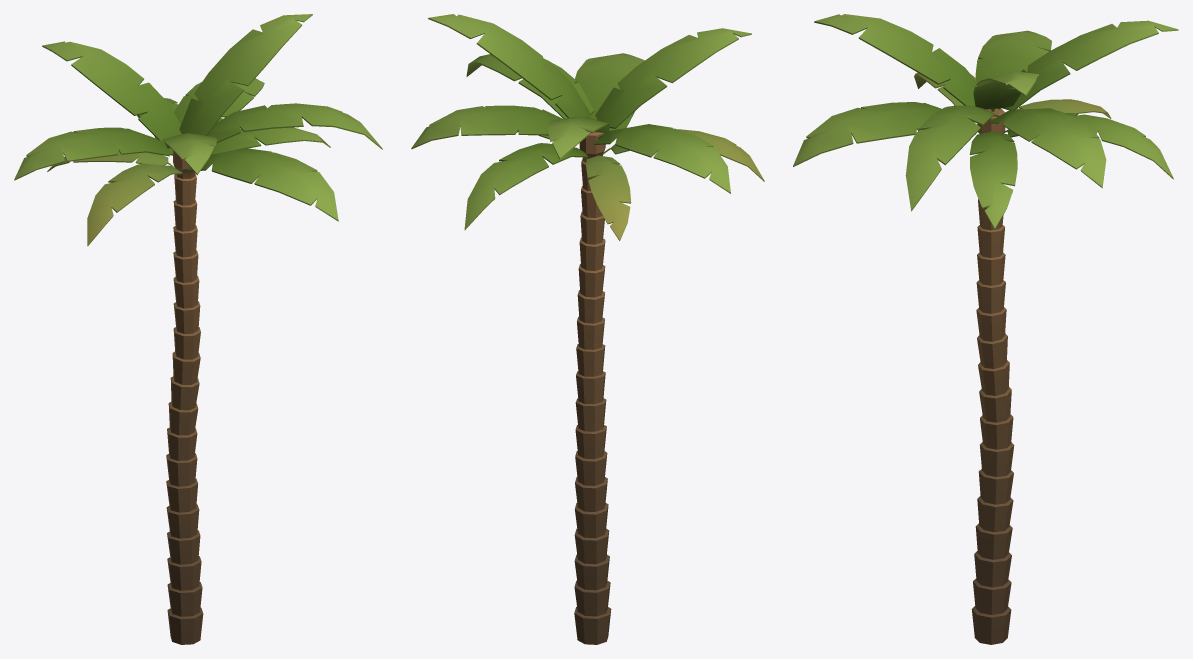
The model's file is PalmTree_03.fbx.
3 views of the same model, side by side, from view 1: azimuth 30°, elevation 25°; view 2: azimuth 150°, elevation 25°; view 3: azimuth 270°, elevation 25° (orthographic). The views are drawn at different scales.
Parts seen in each view (by area): view 1: PalmTree_03_LOD0; view 2: PalmTree_03_LOD0; view 3: PalmTree_03_LOD0.
Boxes of the visible parts, x1,y1,x2,y2 form: PalmTree_03_LOD0: (14,14,382,644); PalmTree_03_LOD0: (411,14,764,644); PalmTree_03_LOD0: (793,14,1178,644).
Size of what is drawn, in the model's own units: 2.99 by 5.33 by 3.
